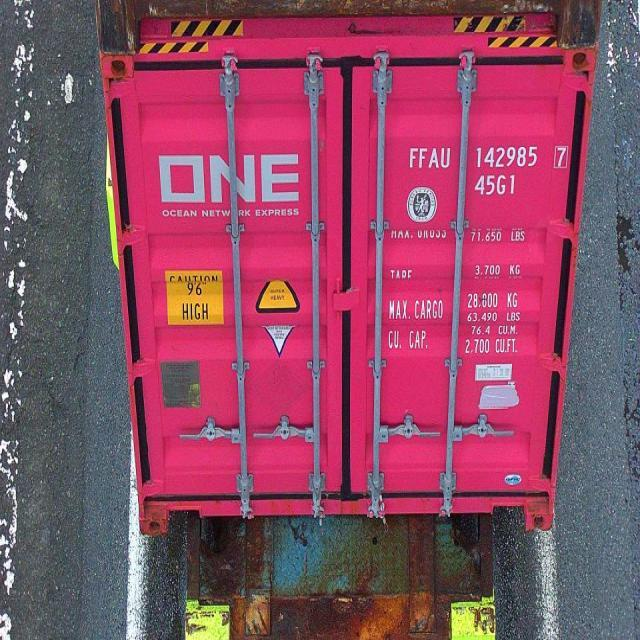ISO: (474, 174, 520, 197)
container_number: (410, 148, 560, 174)
